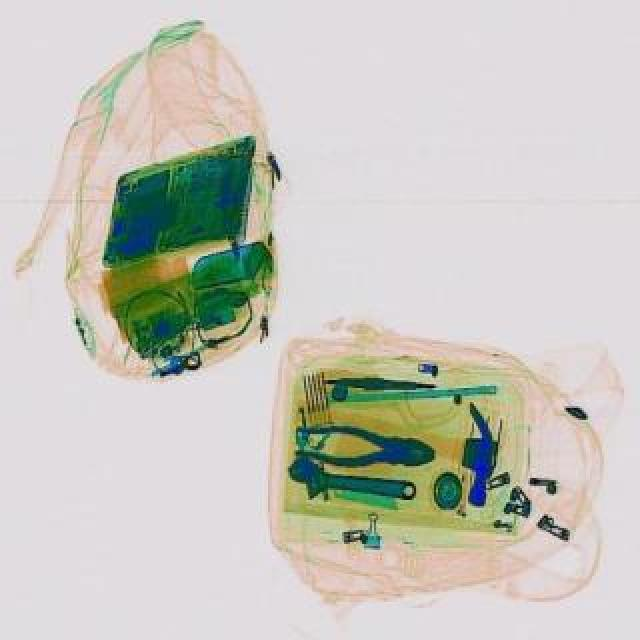scissors: (284, 450, 418, 510)
wrench: (292, 418, 436, 474)
